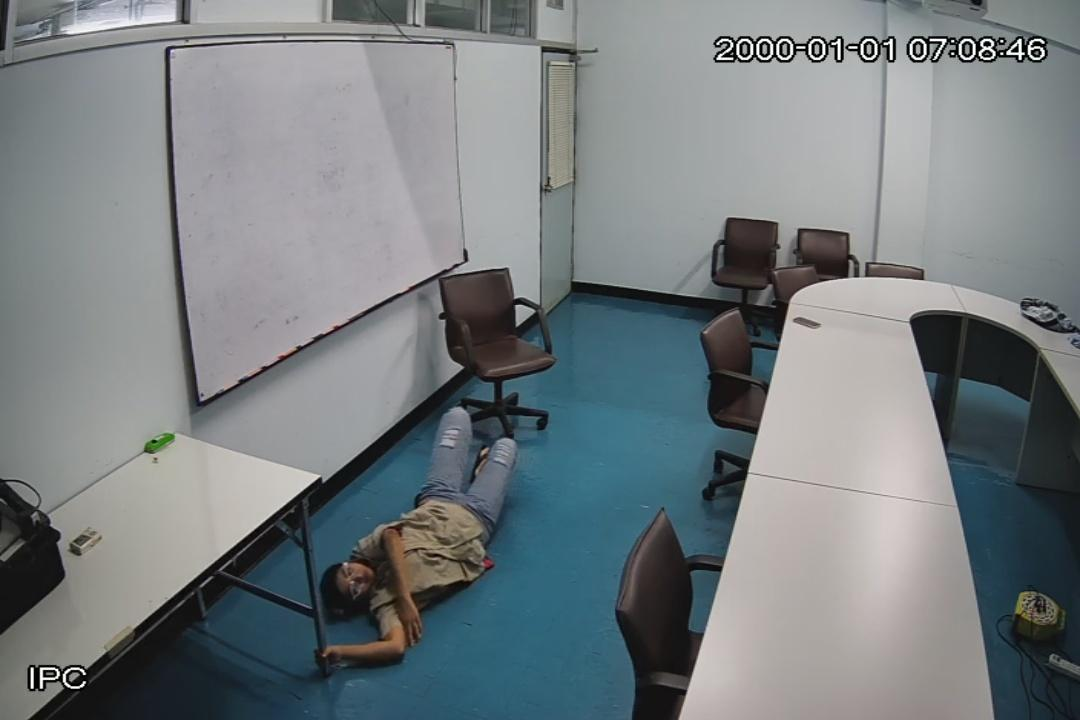fall: (314, 398, 522, 688)
